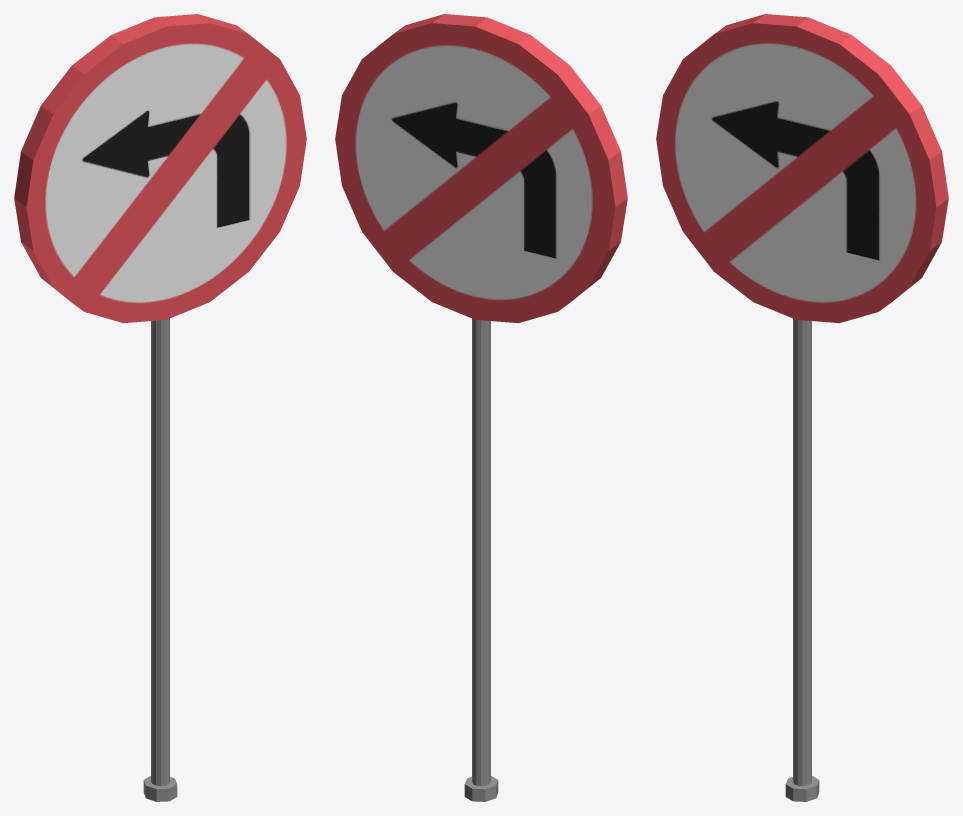
Rendered from D1_TRAFFIC_SIGN_6.fbx.
The picture shows the model from 3 angles, left to right: view 1: azimuth 30°, elevation 25°; view 2: azimuth 150°, elevation 25°; view 3: azimuth 330°, elevation 25°; orthographic projection.
Visible parts, largest first — view 1: D1_SIGNAGE_NOTURN; view 2: D1_SIGNAGE_NOTURN; view 3: D1_SIGNAGE_NOTURN.
Boxes of the visible parts, <box> form: D1_SIGNAGE_NOTURN: <box>14,14,306,801</box>; D1_SIGNAGE_NOTURN: <box>335,14,627,801</box>; D1_SIGNAGE_NOTURN: <box>656,14,948,801</box>.
Bounding box in the file's own units: 106 × 279 × 11.91.
2 materials, 1 textured.
